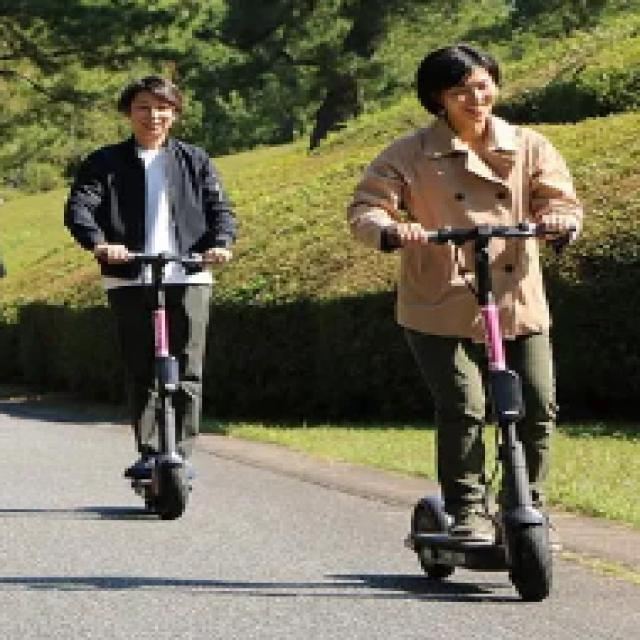non-helmet: (346, 11, 596, 619), (48, 68, 252, 524)
